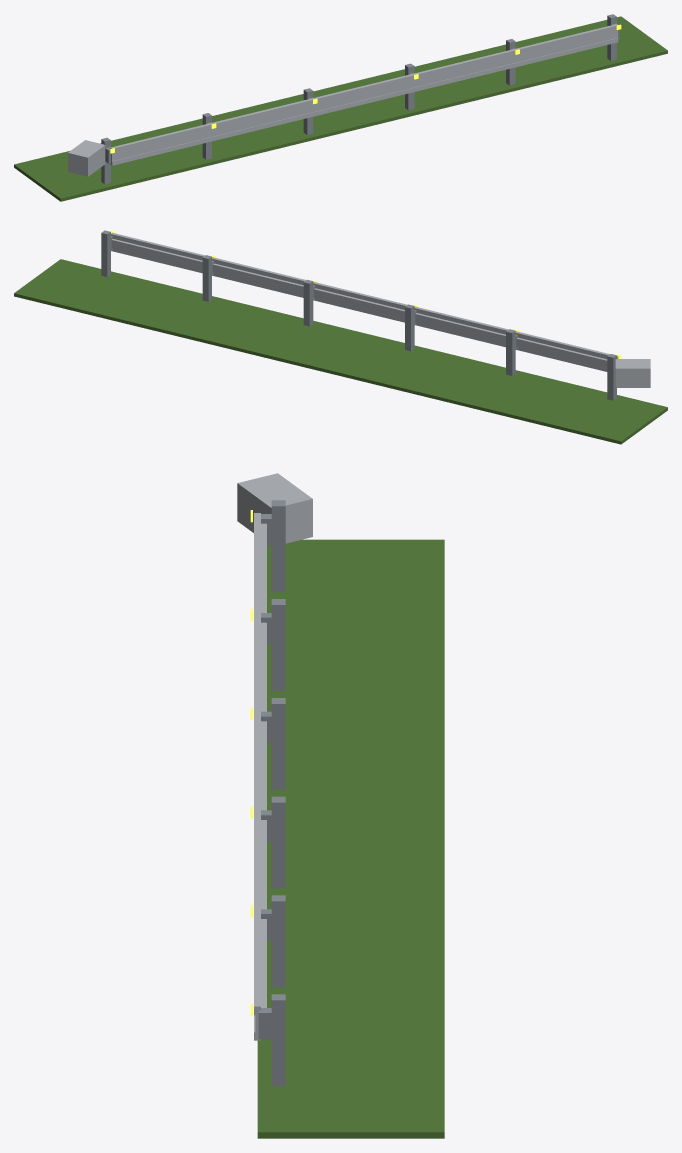
The model's file is OT_Guardrail_10m.glb.
The picture shows the model from 3 angles, top to bottom: view 1: azimuth 30°, elevation 25°; view 2: azimuth 150°, elevation 25°; view 3: azimuth 270°, elevation 25°; orthographic projection. The views are drawn at different scales.
Visible parts, largest first — view 1: OT_Guardrail_10m_Grass__567d3a, OT_Guardrail_10m_Galv__b4b9bf, OT_Guardrail_10m_GalvPost__8e959c; view 2: OT_Guardrail_10m_Grass__567d3a, OT_Guardrail_10m_Galv__b4b9bf, OT_Guardrail_10m_GalvPost__8e959c; view 3: OT_Guardrail_10m_Grass__567d3a, OT_Guardrail_10m_GalvPost__8e959c, OT_Guardrail_10m_Galv__b4b9bf.
Part boxes in pixels (x1,y1,x2,y2): OT_Guardrail_10m_Grass__567d3a: [14, 16, 667, 201]; OT_Guardrail_10m_Galv__b4b9bf: [68, 24, 618, 176]; OT_Guardrail_10m_GalvPost__8e959c: [101, 14, 619, 184]; OT_Guardrail_10m_Grass__567d3a: [14, 259, 667, 444]; OT_Guardrail_10m_Galv__b4b9bf: [111, 232, 650, 387]; OT_Guardrail_10m_GalvPost__8e959c: [101, 230, 616, 400]; OT_Guardrail_10m_Grass__567d3a: [257, 539, 444, 1138]; OT_Guardrail_10m_GalvPost__8e959c: [258, 500, 285, 1085]; OT_Guardrail_10m_Galv__b4b9bf: [237, 473, 312, 1040].
Size of the model in its own units: 12 by 0.9 by 1.77.
